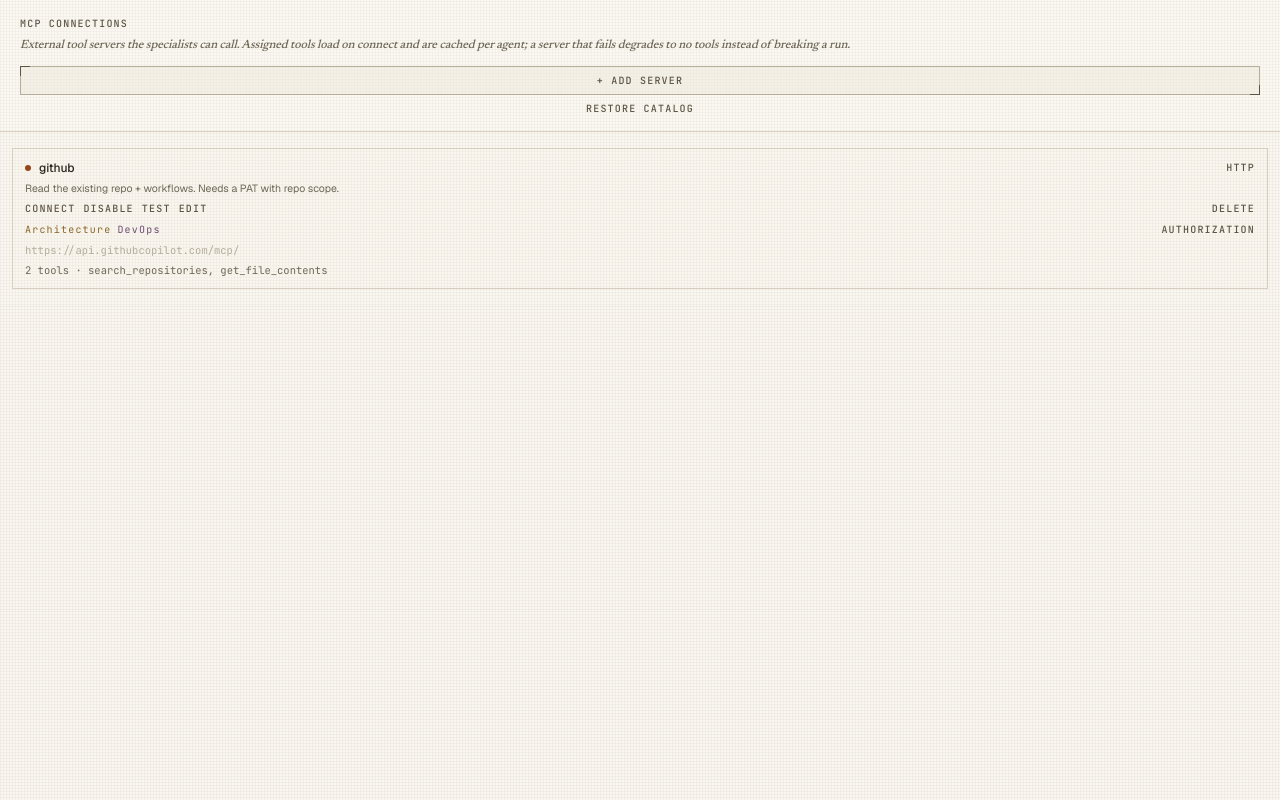
Test: McpPanel › shows the credential hint and the saved keys when editing
Step 1. Click the button "EDIT" → (193,208), box [179,201,207,216]
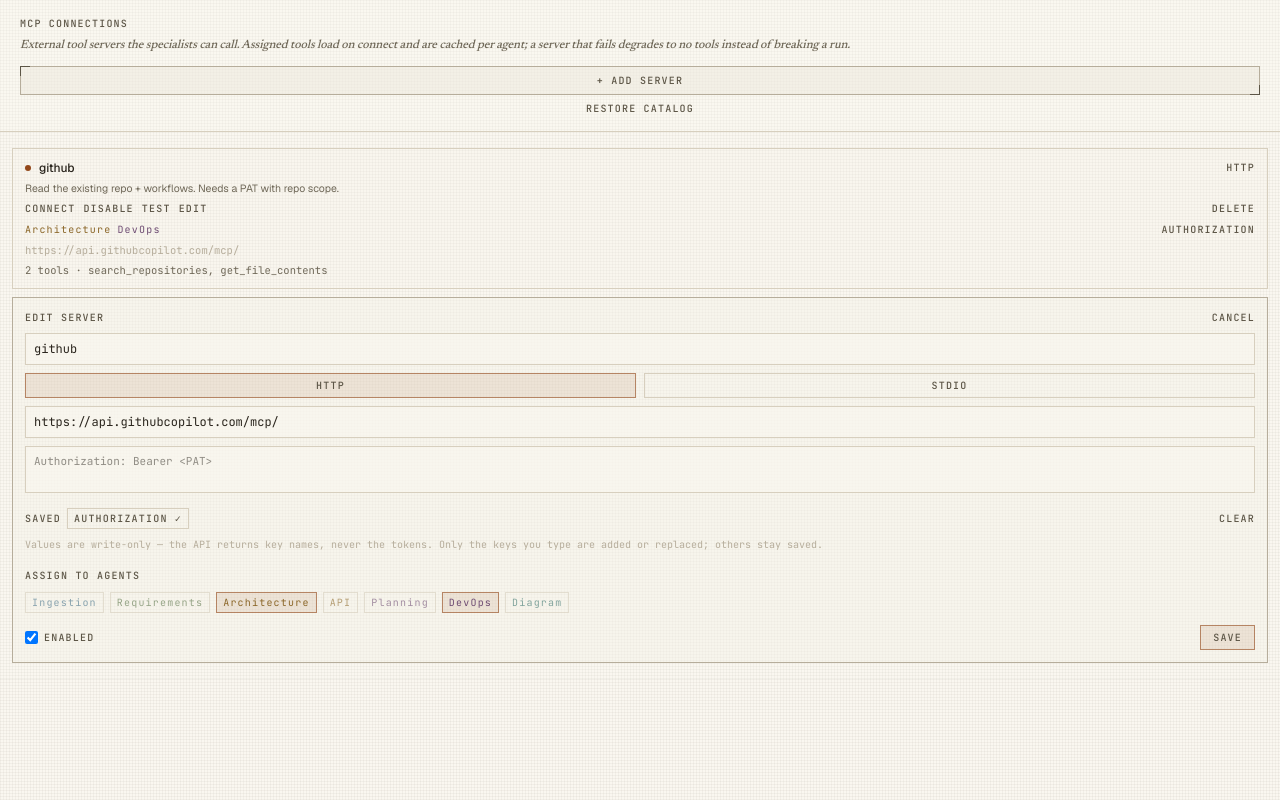
Now the text "Authorization ✓" is shown, box [67,508,189,529]
